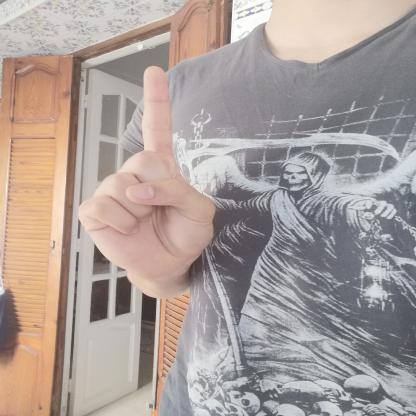BAA: (66, 54, 236, 292)
